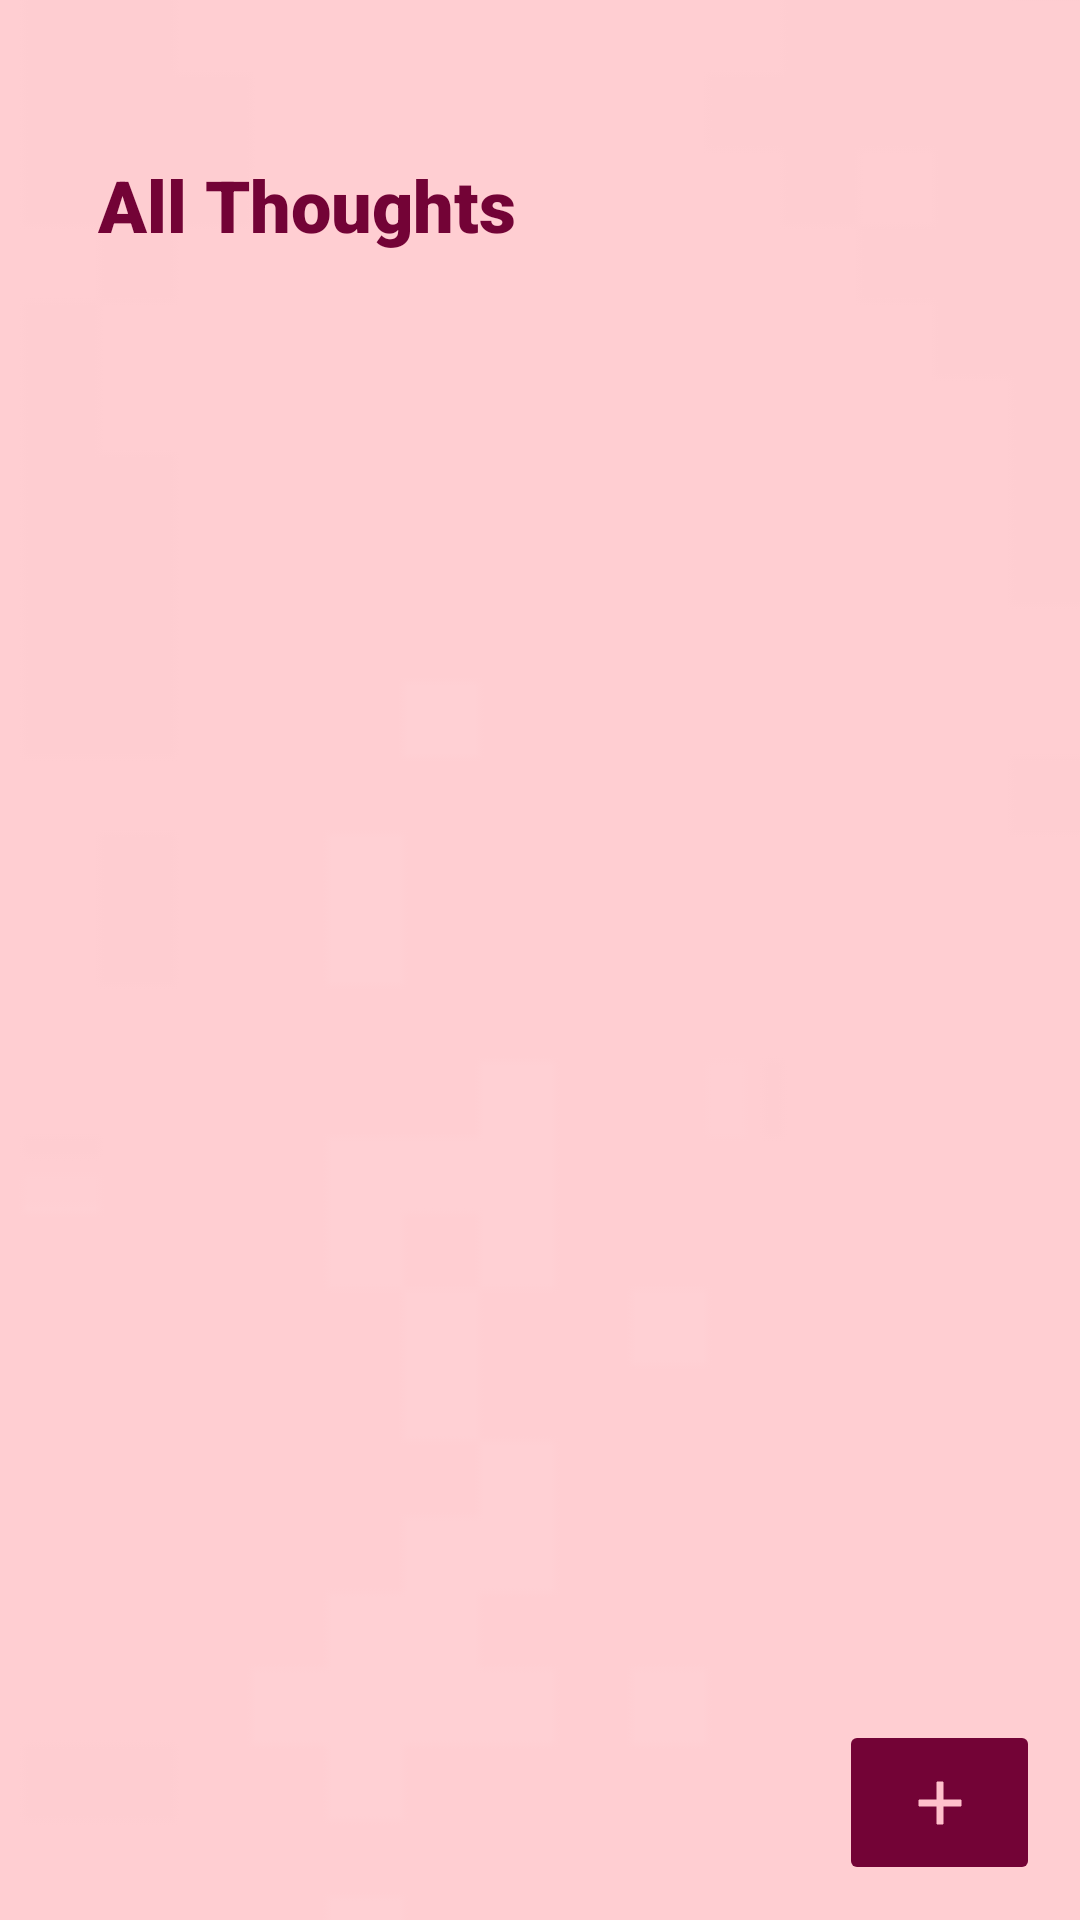

Icon click points for this 1080×1920 phone screenshot, format point (x, y):
add: point (939, 1802)
